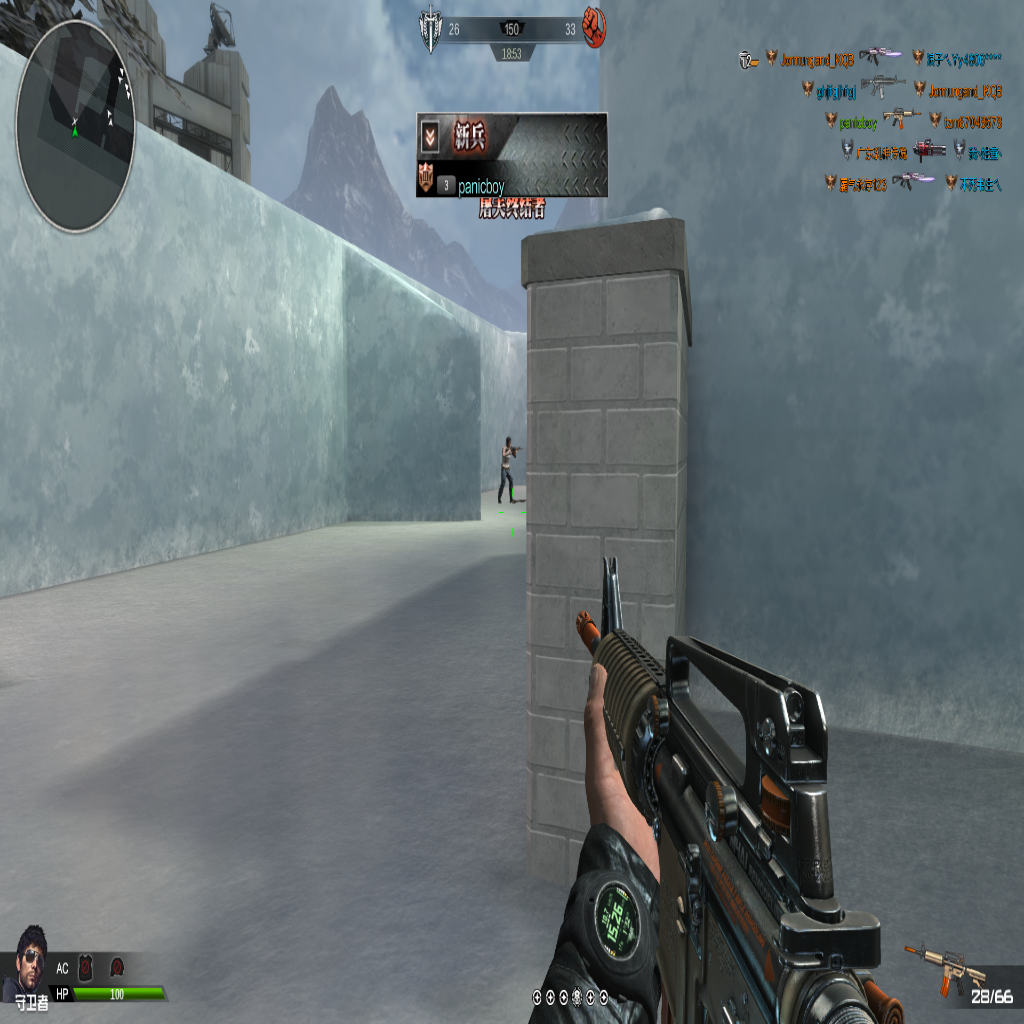tt: (498, 435, 517, 505)
